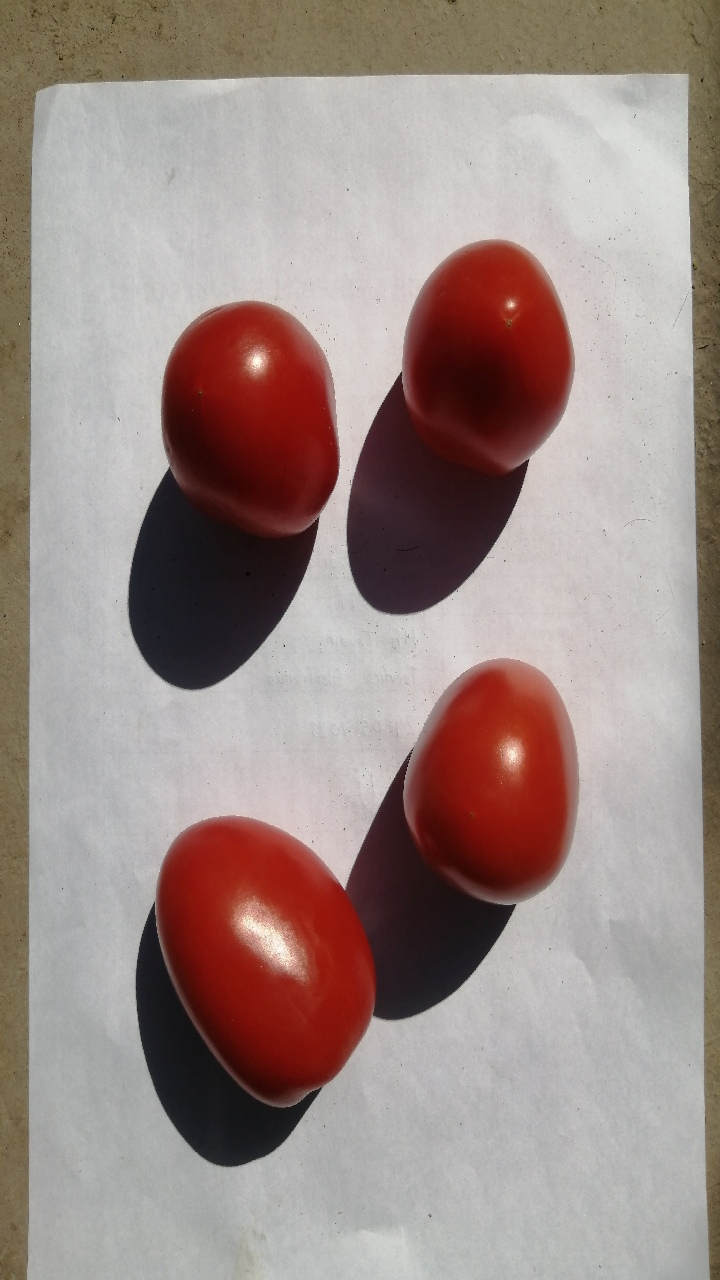tomateRojo: (138, 800, 384, 1129), (377, 629, 614, 937), (371, 226, 584, 483), (144, 285, 349, 545)
